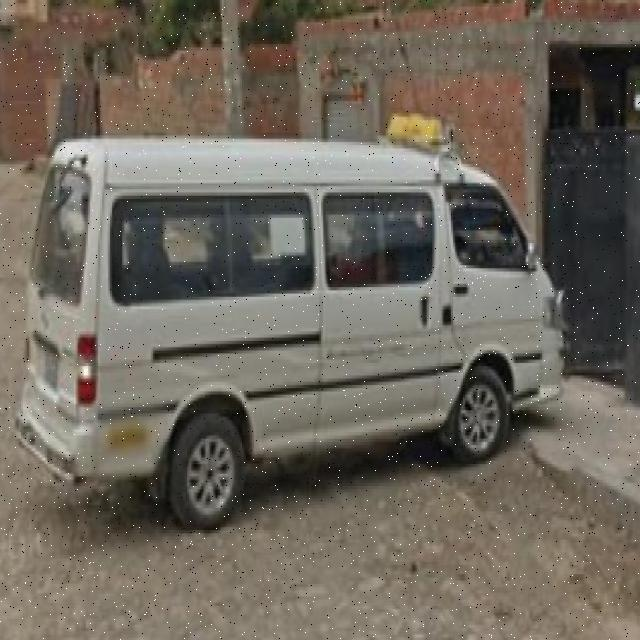car: (36, 133, 568, 530)
